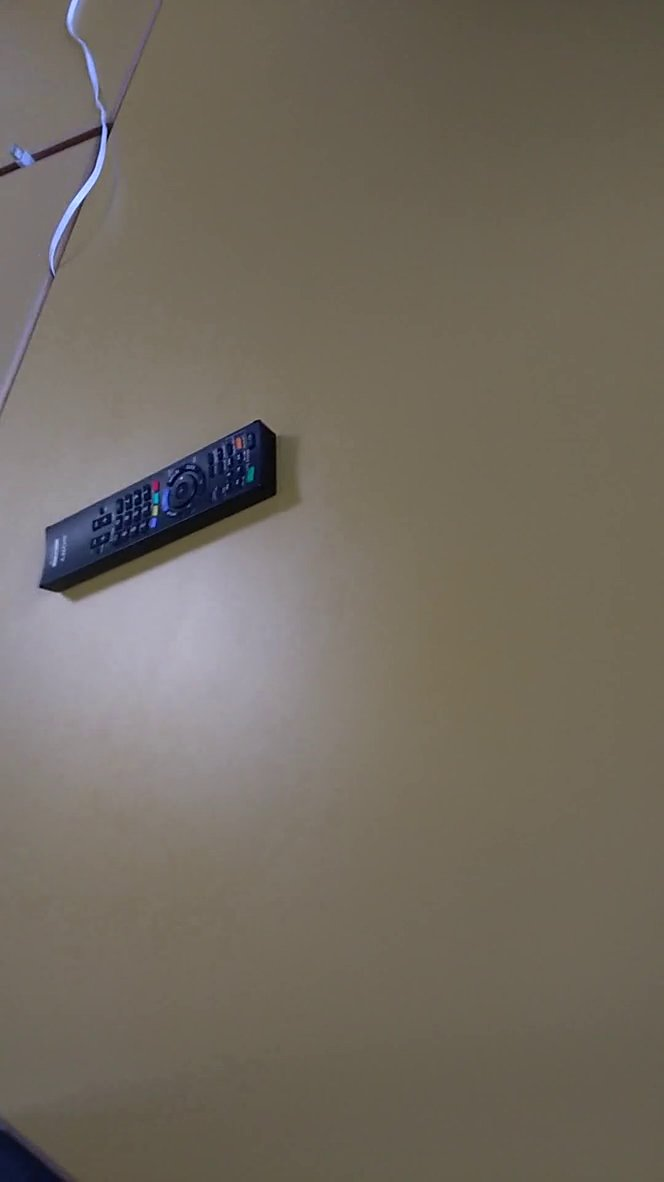remote: (30, 414, 303, 597)
